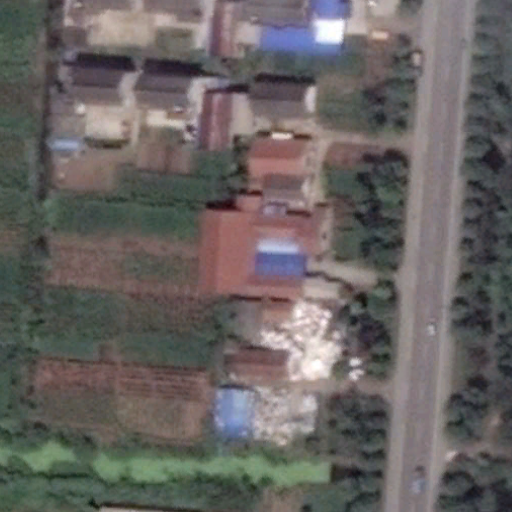msw: (263, 302, 344, 383), (255, 389, 318, 445)
